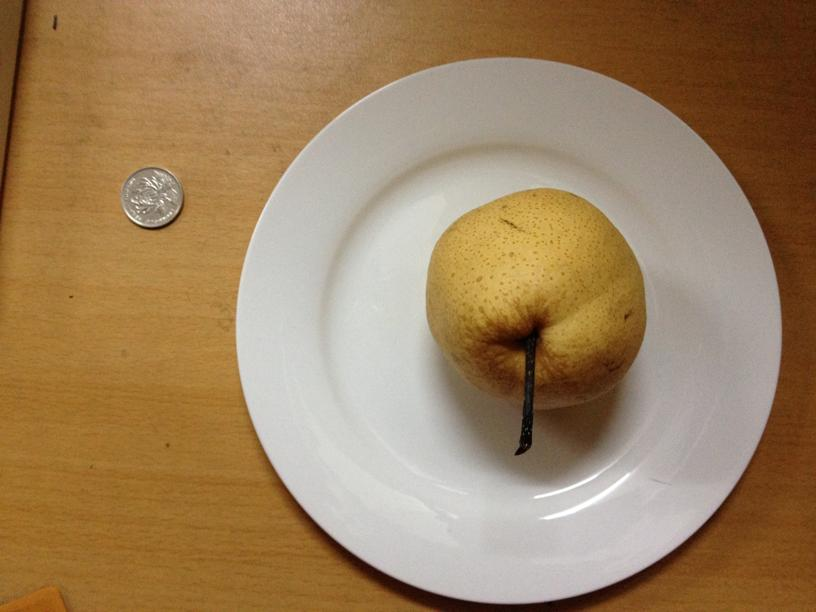coin: (115, 165, 187, 228)
pear: (420, 189, 648, 409)
